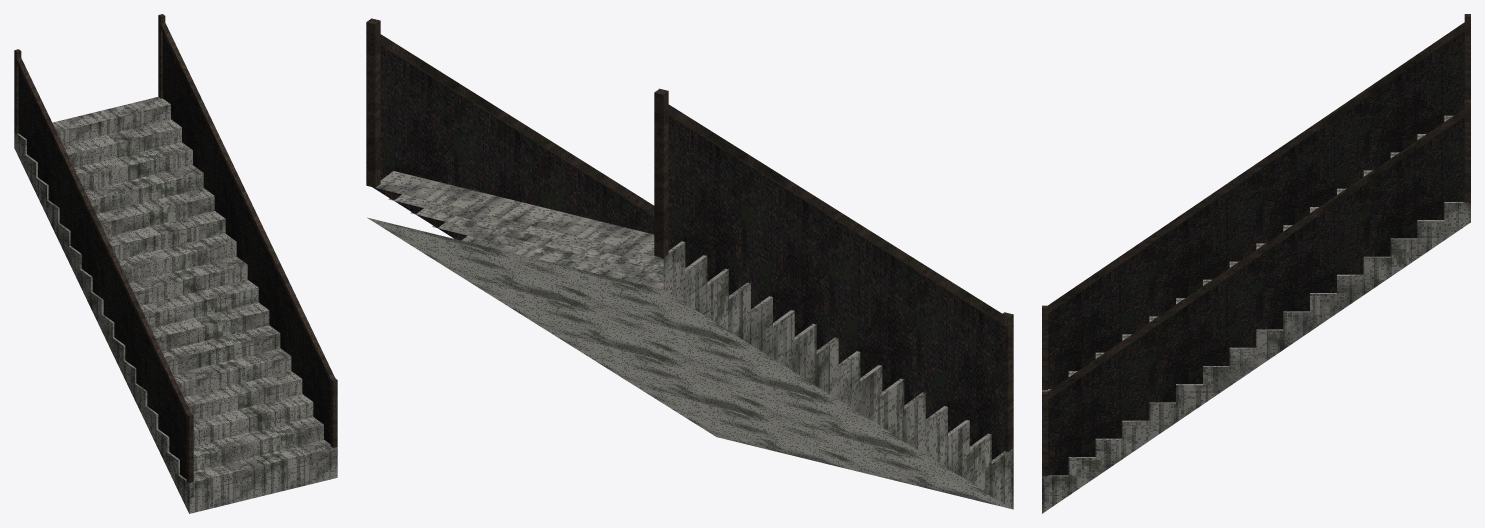
Rendered from stair_straight.gltf.
The picture shows the model from 3 angles, left to right: view 1: azimuth 30°, elevation 25°; view 2: azimuth 150°, elevation 25°; view 3: azimuth 270°, elevation 25°; orthographic projection. The views are drawn at different scales.
Parts seen in each view (by area): view 1: stair_straight; view 2: stair_straight; view 3: stair_straight.
Part boxes in pixels (x1,y1,x2,y2): stair_straight: (14,14,337,513); stair_straight: (366,18,1013,509); stair_straight: (1042,14,1470,513).
Size of what is drawn, in the model's own units: 1.96 by 4.23 by 4.
Materials: 4 (4 with a texture image).
